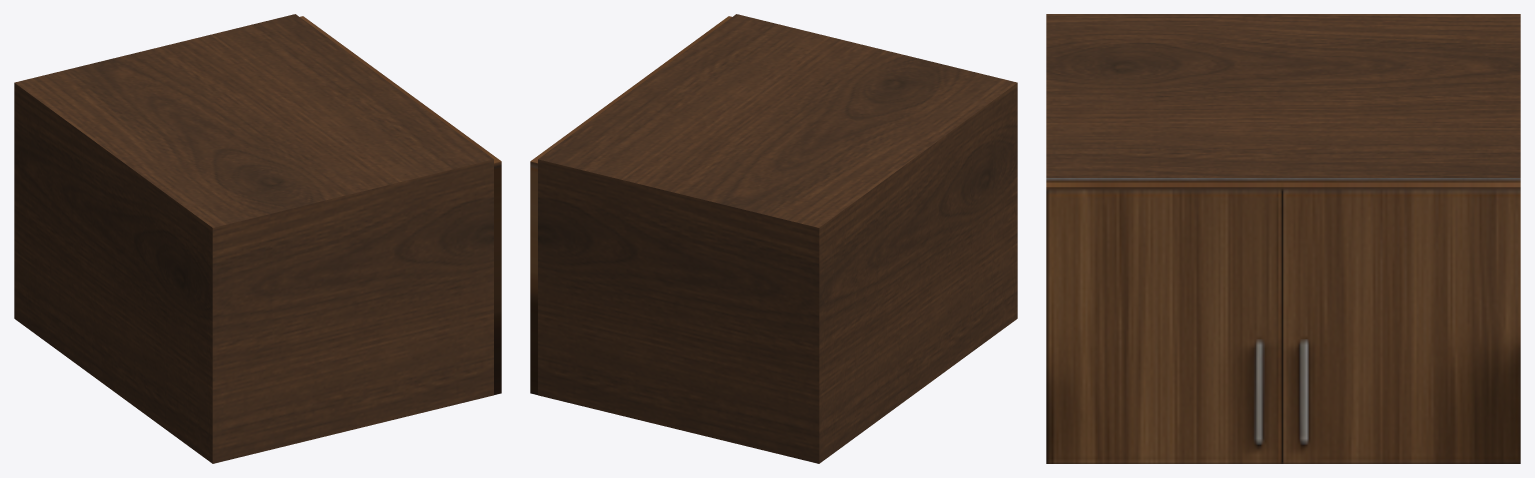
File: air_cupboard.glb
3 views of the same model, side by side, from view 1: azimuth 30°, elevation 25°; view 2: azimuth 150°, elevation 25°; view 3: azimuth 270°, elevation 25° (orthographic). The views are drawn at different scales.
Parts seen in each view (by area): view 1: Cube.036_atlas_kitchen_0; view 2: Cube.036_atlas_kitchen_0; view 3: Cube.036_atlas_kitchen_0.
Part boxes in pixels (left/top/right/bottom): Cube.036_atlas_kitchen_0: left=14, top=14, right=501, bottom=463; Cube.036_atlas_kitchen_0: left=530, top=14, right=1017, bottom=463; Cube.036_atlas_kitchen_0: left=1046, top=14, right=1520, bottom=463.
Bounding box in the file's own units: 0.756 × 0.59 × 0.9.
1 material, 1 textured.
